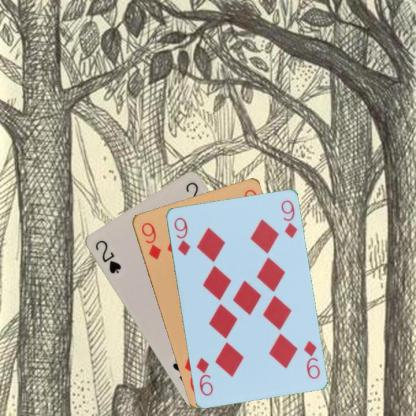2s: (92, 237, 122, 275)
9d: (138, 220, 162, 261), (300, 338, 322, 380), (171, 214, 191, 257)
